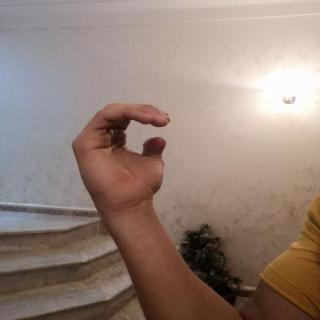JEEM: (59, 96, 183, 216)
